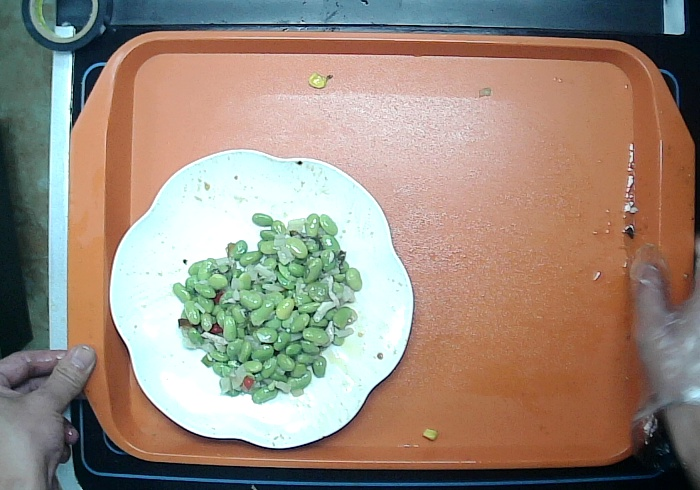HZYJPL-Bai_Se_Hua_Duo_Wan: (103, 153, 414, 448)
